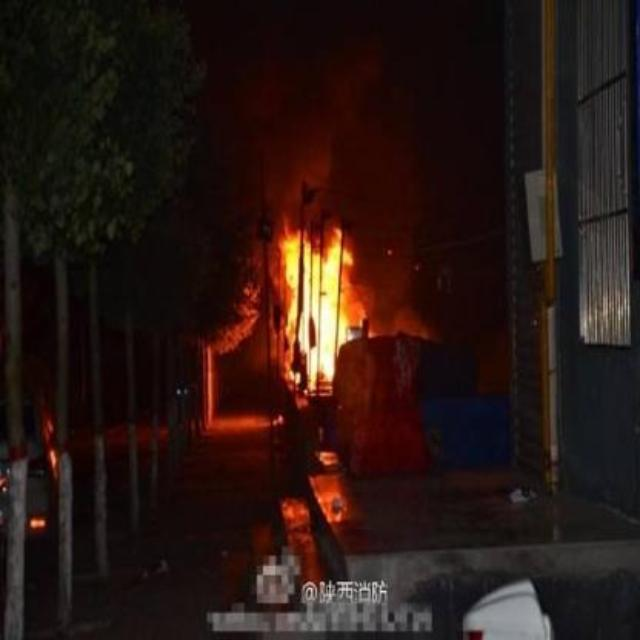Fire: (282, 228, 352, 390)
